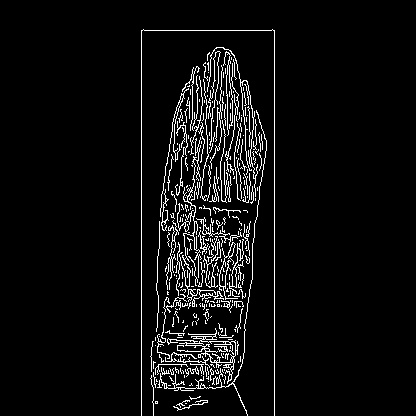buddha-pyre: (116, 218, 209, 341)
